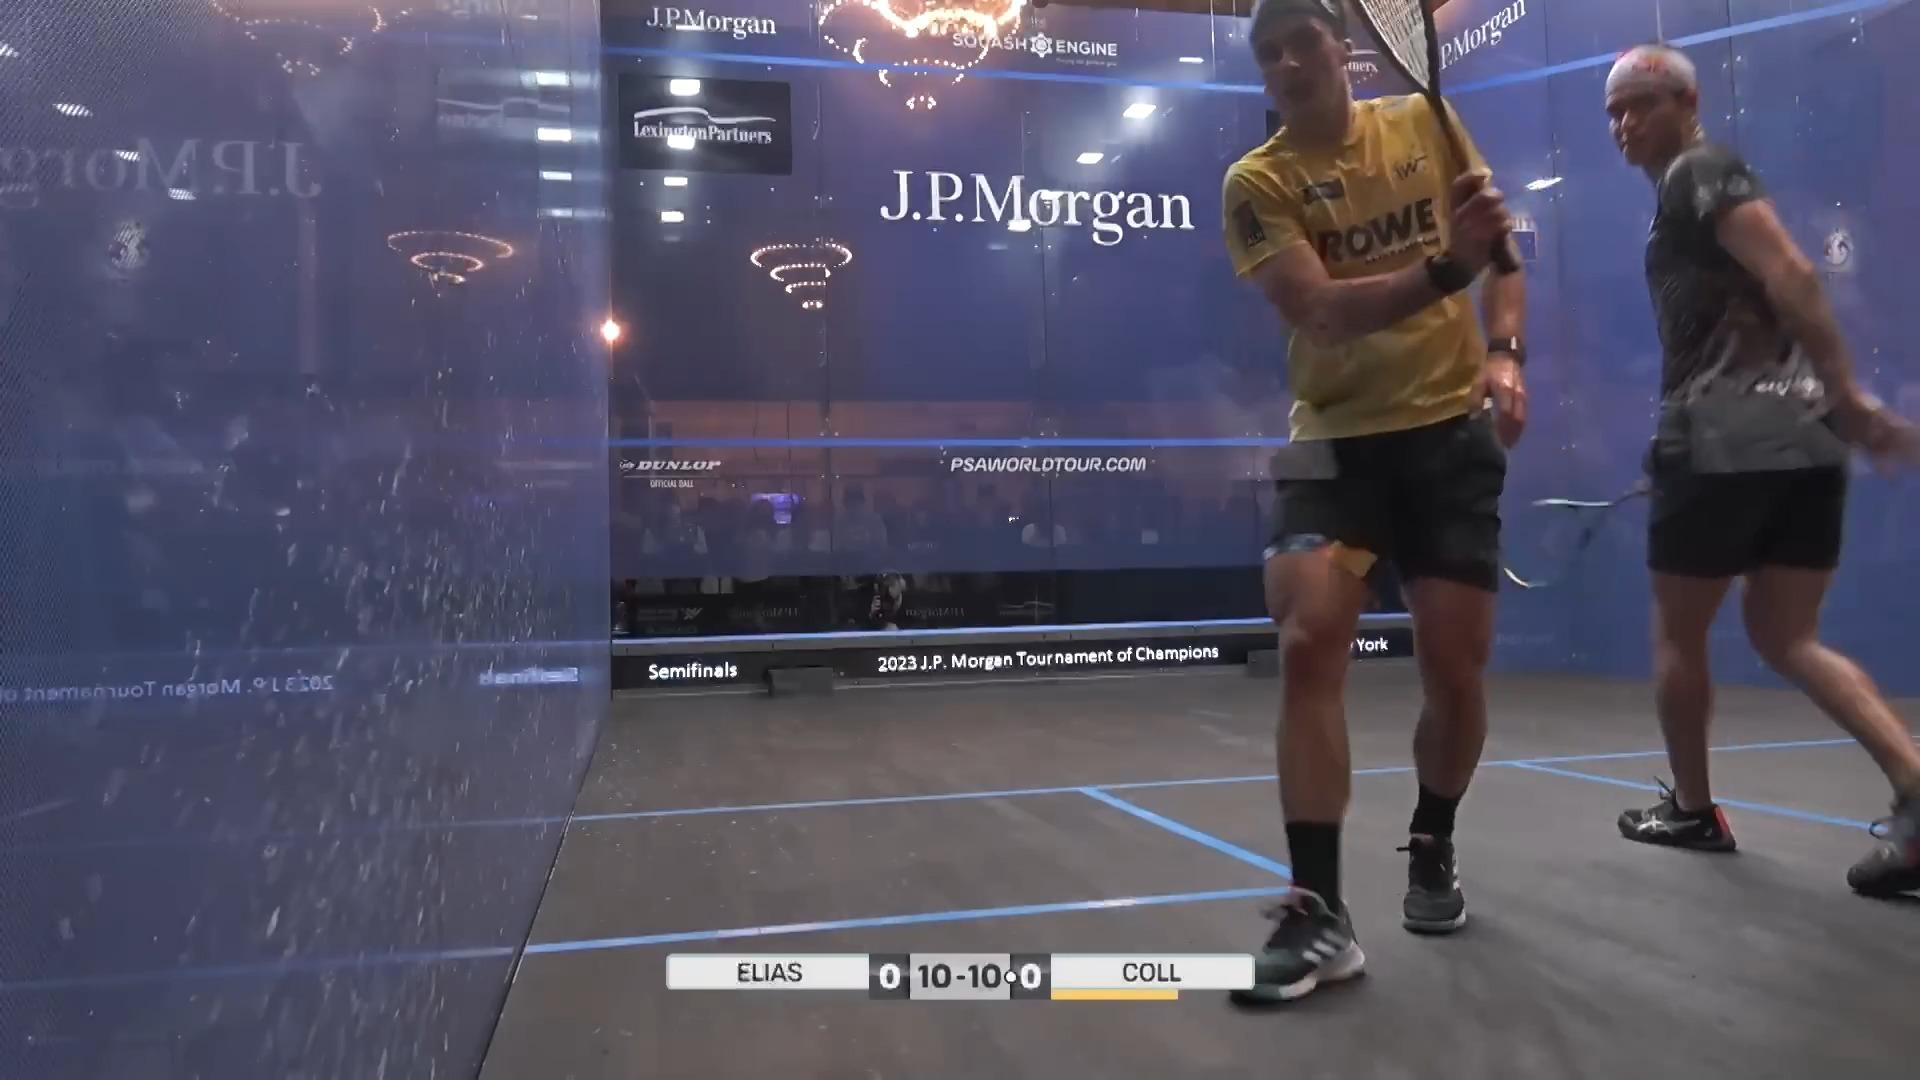Racket: (1346, 0, 1532, 284), (1495, 493, 1638, 595)
